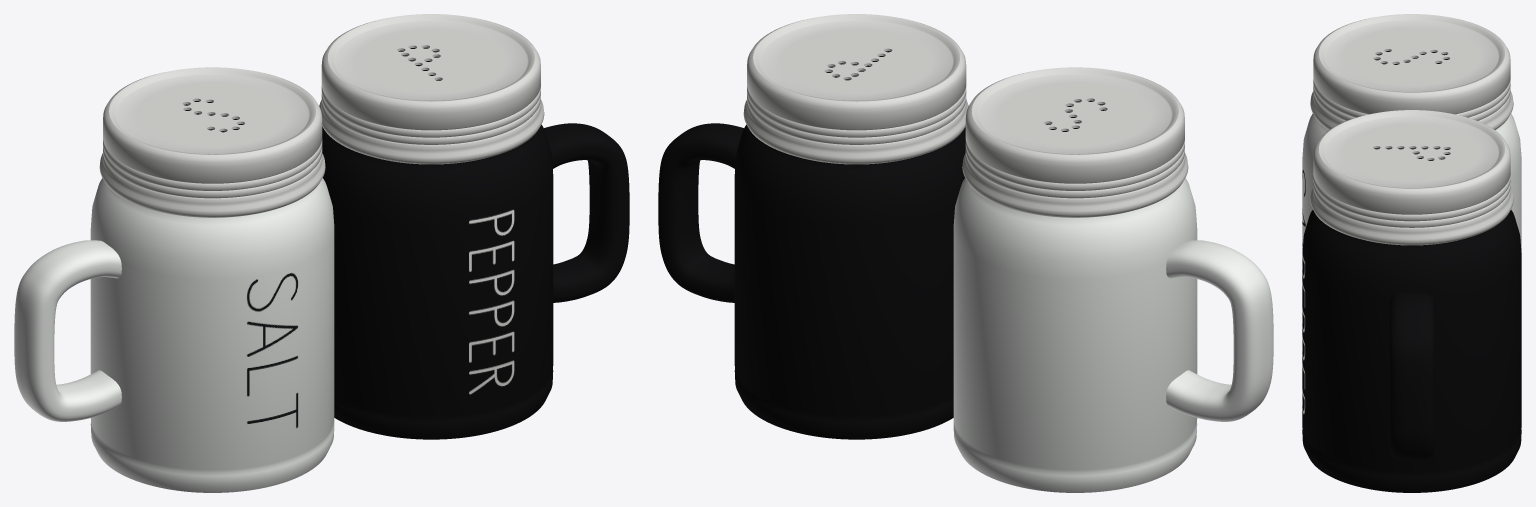
File: salt_pepper.glb
3 views of the same model, side by side, from view 1: azimuth 30°, elevation 25°; view 2: azimuth 150°, elevation 25°; view 3: azimuth 270°, elevation 25° (orthographic). The views are drawn at different scales.
Visible parts, largest first — view 1: The Better Home Glass Salt & Pepper Shakers; view 2: The Better Home Glass Salt & Pepper Shakers; view 3: The Better Home Glass Salt & Pepper Shakers.
Part boxes in pixels (<box>): The Better Home Glass Salt & Pepper Shakers: <box>14,14,629,492</box>; The Better Home Glass Salt & Pepper Shakers: <box>658,14,1273,492</box>; The Better Home Glass Salt & Pepper Shakers: <box>1302,14,1521,492</box>.
Bounding box in the file's own units: 0.1557 × 0.083 × 0.0546.
6 materials, 2 textured.
